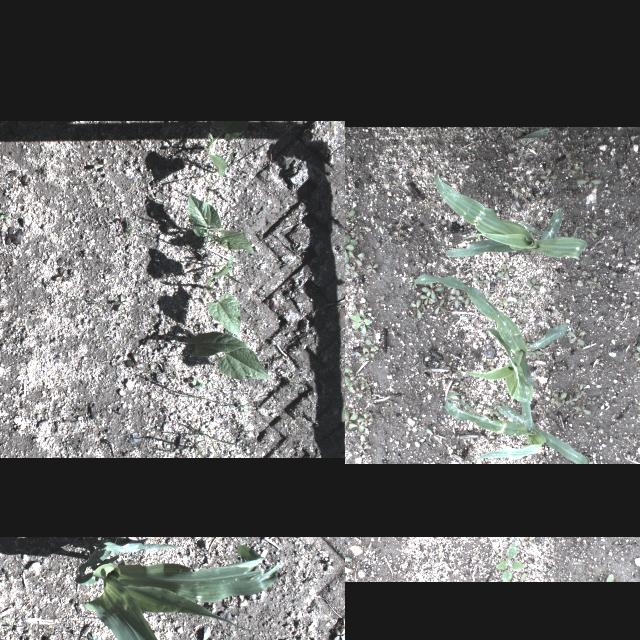crop: (75, 537, 278, 640), (412, 274, 568, 400), (432, 170, 588, 260), (442, 392, 586, 463), (186, 332, 270, 381), (187, 194, 255, 254), (206, 256, 240, 336), (203, 121, 247, 181), (517, 128, 551, 140)
weed: (195, 137, 271, 185), (108, 210, 152, 240), (494, 542, 524, 582), (276, 237, 304, 266), (206, 435, 240, 457), (216, 264, 247, 286), (564, 323, 590, 349), (350, 307, 372, 337), (230, 394, 252, 422), (279, 622, 312, 640), (354, 338, 378, 360), (191, 393, 227, 407), (560, 157, 582, 179), (498, 294, 530, 308), (285, 370, 305, 392), (352, 440, 374, 460), (492, 262, 516, 280), (570, 175, 602, 188), (331, 614, 345, 640), (540, 170, 558, 188), (446, 290, 464, 308), (424, 424, 440, 444), (525, 275, 541, 293), (237, 425, 257, 439), (580, 278, 602, 290), (473, 273, 489, 289), (114, 294, 128, 312), (421, 286, 441, 298), (550, 392, 566, 406), (432, 298, 448, 312), (410, 300, 422, 318), (92, 158, 106, 172), (366, 258, 378, 274), (345, 234, 352, 261), (81, 632, 104, 640), (345, 208, 358, 222), (191, 379, 205, 391), (583, 224, 597, 236), (350, 251, 362, 265), (345, 359, 351, 387), (358, 415, 372, 427), (345, 263, 360, 274), (345, 410, 356, 425), (55, 268, 67, 280), (421, 292, 433, 304), (0, 208, 8, 224), (574, 406, 590, 414), (520, 539, 536, 547), (635, 402, 640, 426), (350, 386, 362, 396), (575, 384, 583, 398), (633, 346, 640, 361), (586, 396, 596, 404), (566, 395, 574, 405), (604, 574, 614, 582), (520, 572, 526, 582), (345, 557, 351, 566), (368, 394, 374, 402), (516, 537, 522, 544), (345, 428, 349, 436), (238, 140, 242, 146)
